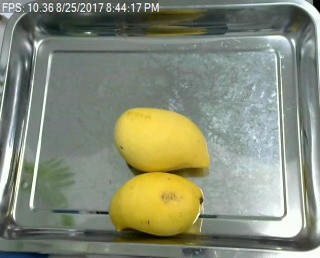Mango: (109, 102, 213, 176), (108, 169, 206, 239)
